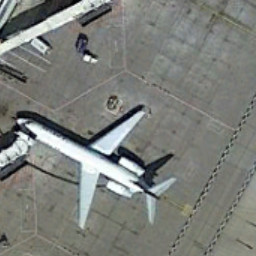Airplane: (8, 95, 187, 240)
